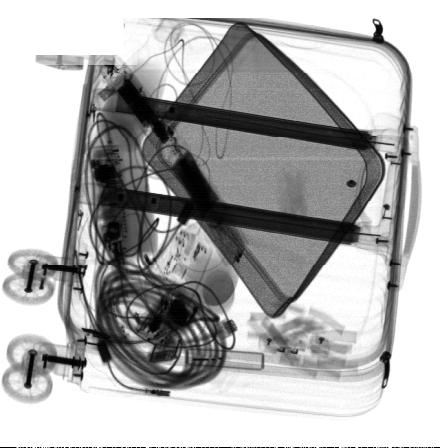Baton: (96, 50, 250, 265)
